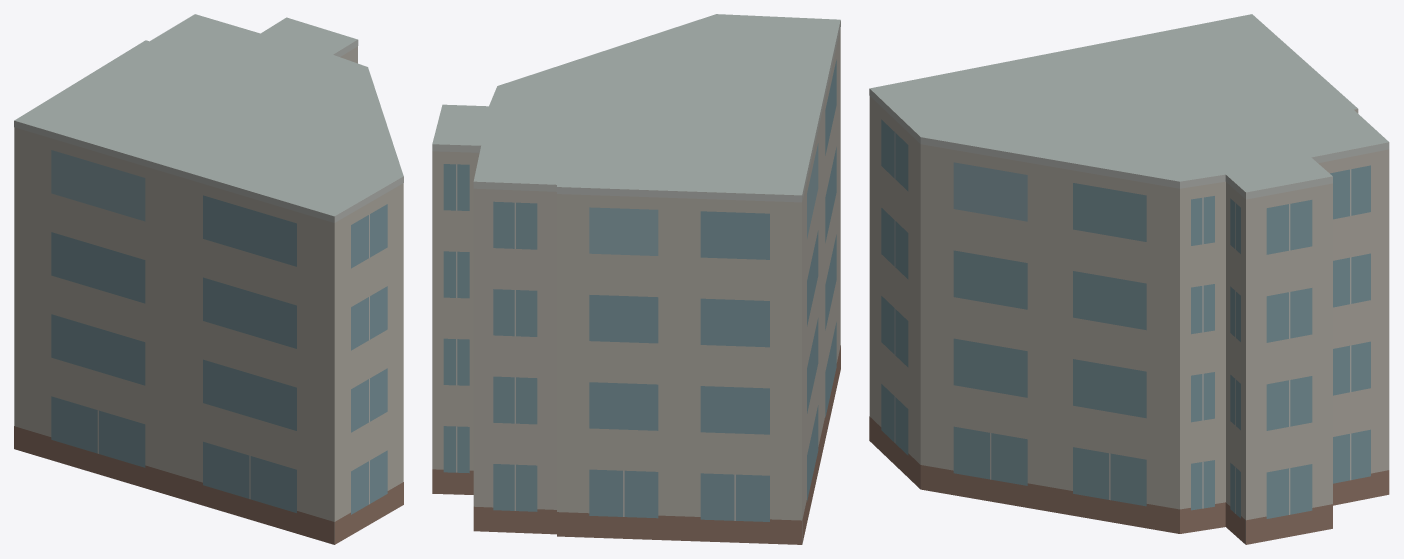
Rendered from survey-upis-32672924.glb.
3 renders of one model, left to right at view 1: azimuth 30°, elevation 25°; view 2: azimuth 150°, elevation 25°; view 3: azimuth 270°, elevation 25°, orthographic. The views are drawn at different scales.
Parts seen in each view (by area): view 1: survey-upis-32672924.tmp; view 2: survey-upis-32672924.tmp; view 3: survey-upis-32672924.tmp.
Boxes of the visible parts, box(x1,y1,x2,y2) form: survey-upis-32672924.tmp: box(14, 14, 403, 544); survey-upis-32672924.tmp: box(432, 14, 840, 544); survey-upis-32672924.tmp: box(869, 14, 1389, 544).
Bounding box in the file's own units: 13.18 × 12.12 × 16.22.
